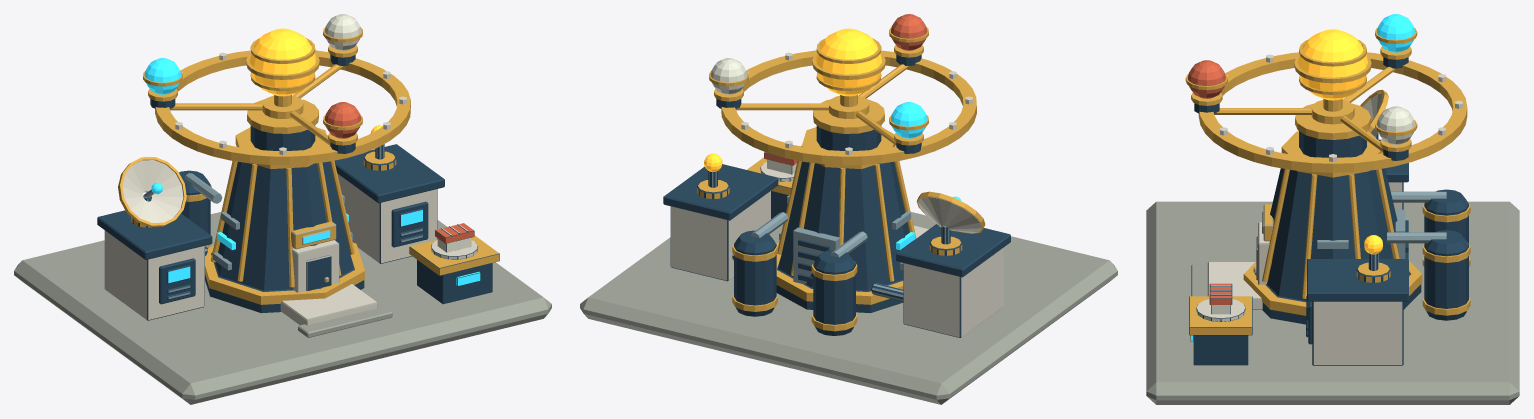
Rendered from sync-lv2.glb.
The picture shows the model from 3 angles, left to right: view 1: azimuth 30°, elevation 25°; view 2: azimuth 150°, elevation 25°; view 3: azimuth 270°, elevation 25°; orthographic projection. The views are drawn at different scales.
Parts seen in each view (by area): view 1: Sync_L2, Planetary_Rail.002, Concave_Dish.003; view 2: Sync_L2, Planetary_Rail.002, Concave_Dish.003; view 3: Sync_L2, Planetary_Rail.002, Concave_Dish.003.
Boxes of the visible parts, x1,y1,x2,y2 form: Sync_L2: [14, 28, 551, 404]; Planetary_Rail.002: [143, 14, 410, 165]; Concave_Dish.003: [118, 157, 186, 226]; Sync_L2: [580, 28, 1117, 404]; Planetary_Rail.002: [709, 14, 976, 165]; Concave_Dish.003: [916, 191, 985, 233]; Sync_L2: [1146, 29, 1519, 404]; Planetary_Rail.002: [1185, 14, 1467, 172]; Concave_Dish.003: [1360, 89, 1388, 136].
Bounding box in the file's own units: 5.4 × 3.75 × 4.5.
